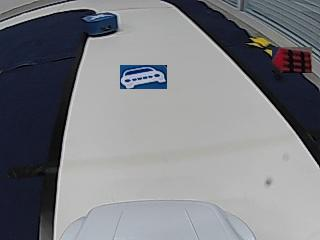prop: (83, 14, 118, 36)
